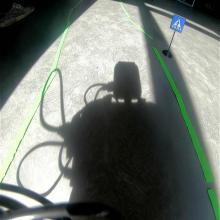crosswalk: (169, 13, 186, 32)
